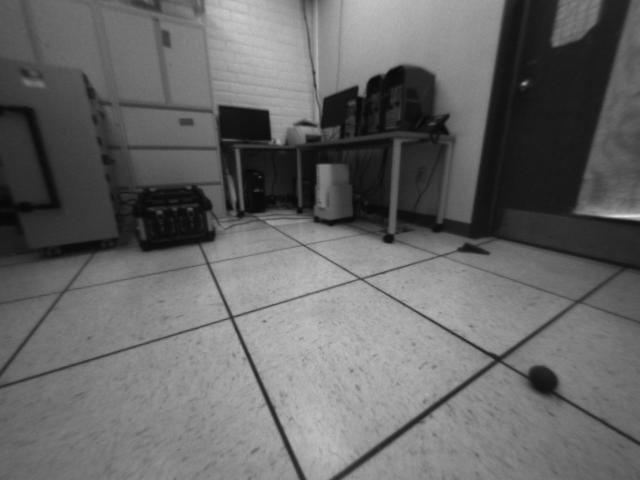dogtoy: (526, 358, 575, 404)
